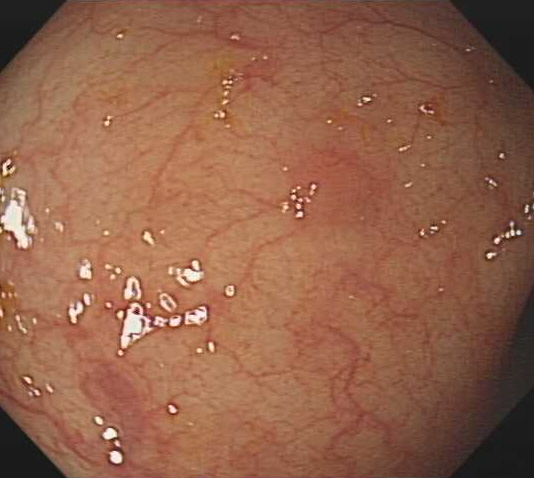adenoma: (286, 148, 373, 223)
